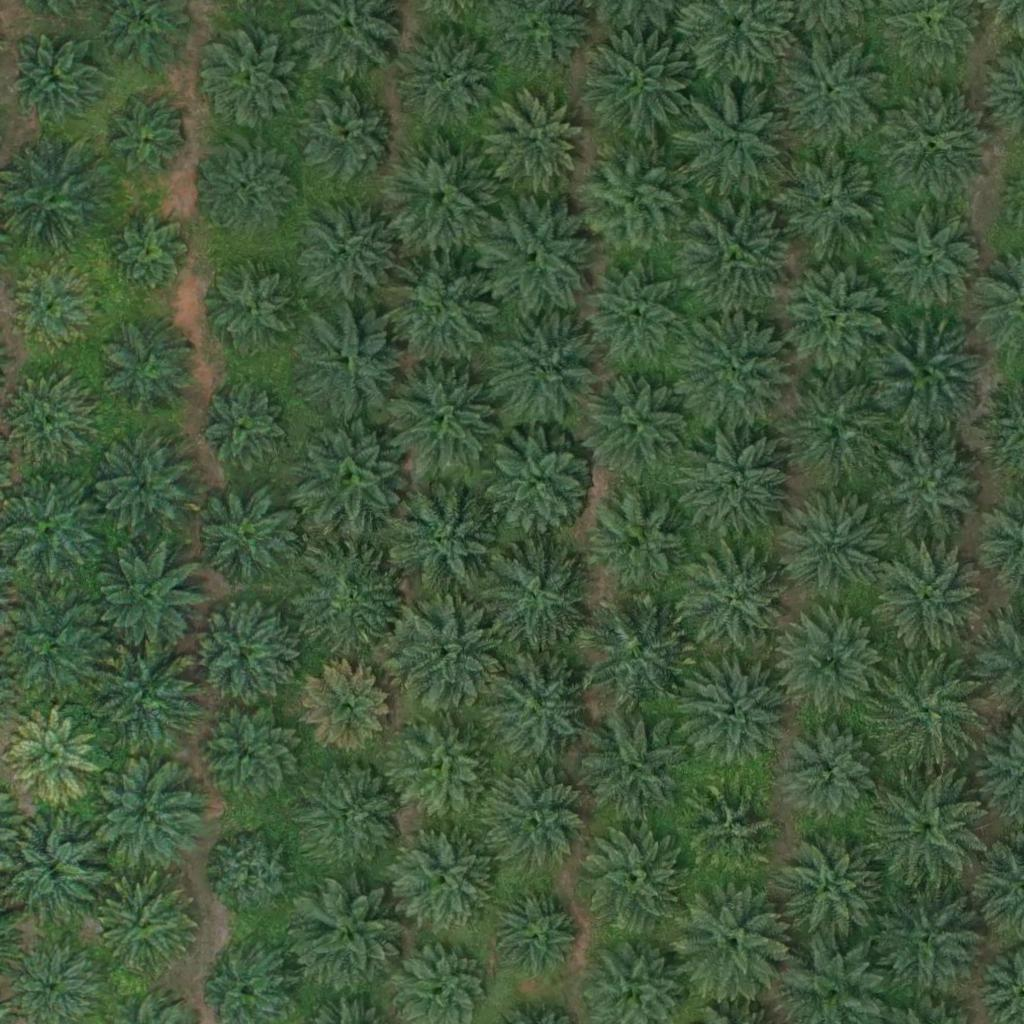Kelapa_Sawit: (92, 540, 205, 654), (575, 141, 688, 255), (680, 199, 793, 313), (680, 317, 793, 431), (779, 373, 892, 487), (780, 488, 893, 602), (89, 763, 202, 877), (679, 80, 792, 193), (581, 29, 694, 142), (288, 81, 401, 194), (289, 194, 402, 307), (295, 307, 408, 420), (295, 421, 408, 534), (385, 362, 498, 475), (387, 488, 500, 601), (390, 598, 503, 711), (676, 430, 789, 543), (683, 548, 796, 661), (776, 607, 889, 720), (871, 774, 984, 887), (870, 879, 983, 992), (773, 828, 886, 941), (482, 651, 595, 764), (90, 638, 203, 751), (781, 263, 893, 377), (873, 428, 985, 542), (872, 545, 984, 659), (878, 89, 990, 202), (781, 36, 893, 149), (296, 543, 408, 656), (381, 140, 493, 253), (384, 256, 496, 369), (483, 200, 595, 313), (489, 312, 601, 425), (483, 424, 595, 537), (478, 537, 590, 650), (582, 367, 694, 480), (579, 597, 691, 710), (775, 145, 887, 258), (873, 321, 985, 434), (867, 654, 979, 767), (677, 884, 789, 997), (576, 823, 688, 936), (676, 651, 788, 764), (580, 710, 692, 823), (298, 886, 410, 999), (487, 89, 587, 190), (400, 27, 500, 128), (100, 313, 200, 414), (95, 438, 195, 539), (201, 263, 301, 364), (194, 486, 294, 587), (591, 490, 691, 591), (883, 210, 983, 311), (484, 765, 584, 866), (395, 716, 495, 817), (202, 702, 302, 803), (304, 762, 404, 863), (198, 33, 298, 133), (198, 137, 298, 237), (194, 602, 294, 702), (586, 268, 686, 368), (394, 828, 494, 928), (96, 878, 196, 978), (687, 785, 775, 874), (7, 266, 95, 354), (108, 206, 196, 294), (198, 382, 286, 470), (302, 663, 390, 751), (9, 35, 96, 123), (7, 371, 94, 459), (489, 889, 576, 977), (788, 728, 875, 816), (9, 708, 96, 796), (210, 830, 297, 918), (108, 101, 183, 177)
